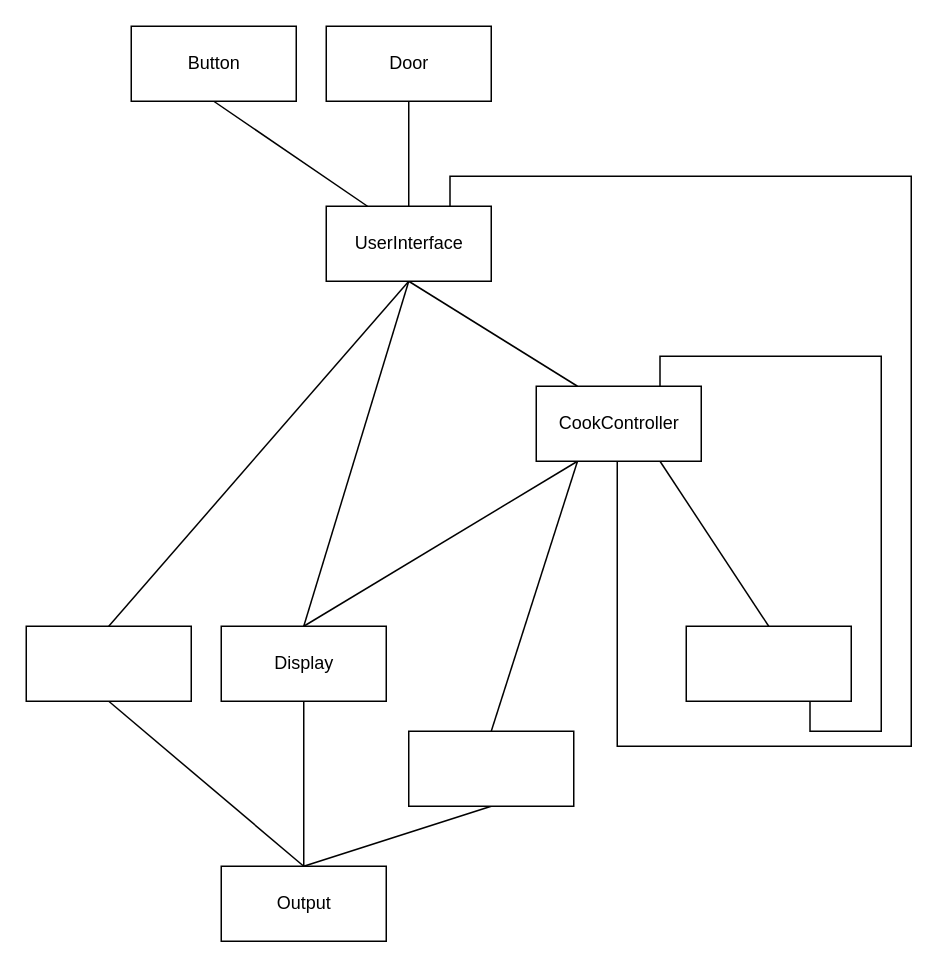
Some shapes in this 939 by 968 pixel diagram are drawn without their labels. Here are the shapes that lost their labels. From the top down, the centre of each, then its label:
At point (108, 663): "Light".
At point (768, 663): "Timer".
At point (490, 768): "PowerTube".
